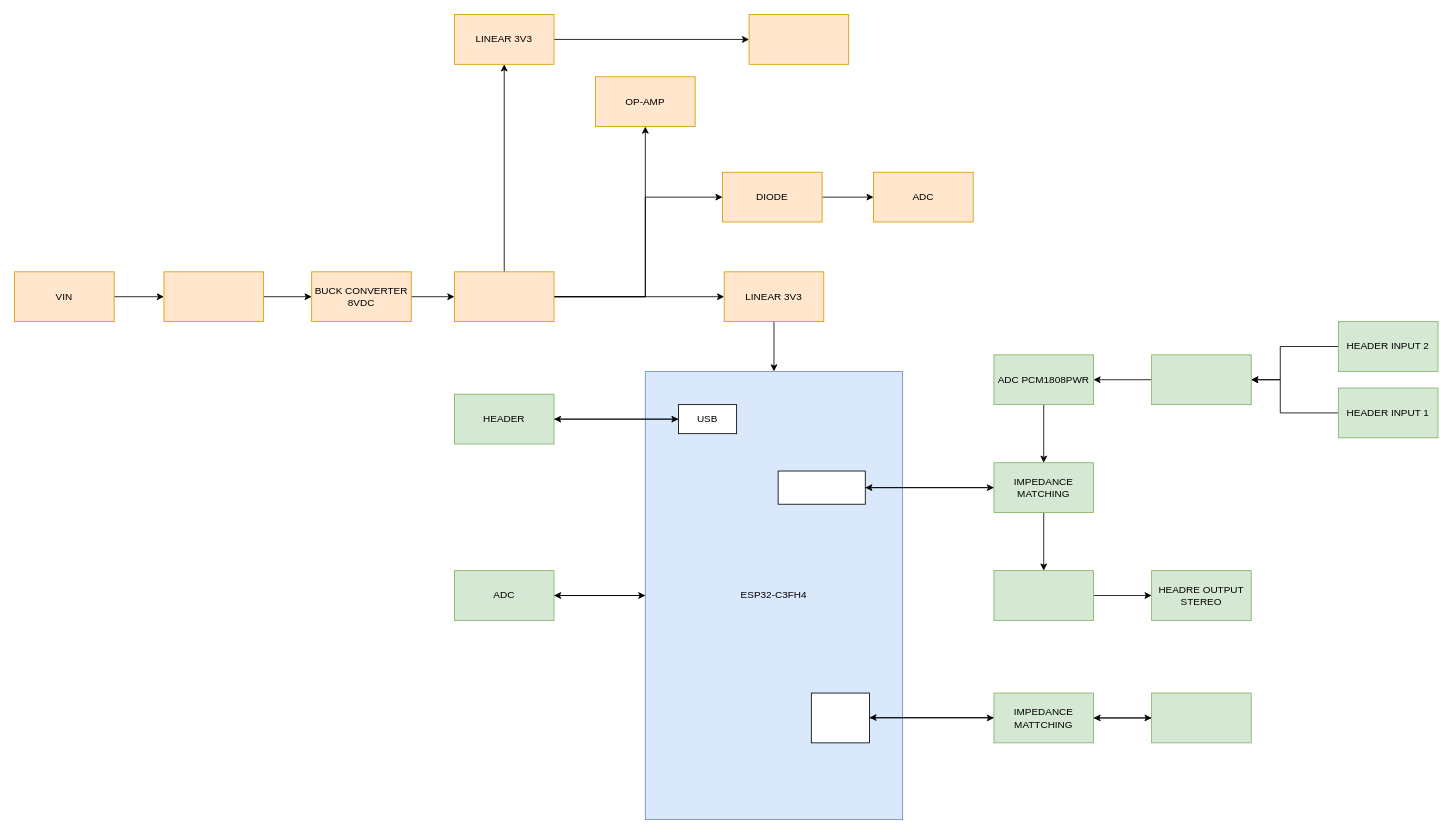
Image size: 1453x834. Some labels were removed from this diagram. The centre of each missing label's shape, as x and y in pixels:
ANTENNA: the point at 1201,717
BRIDGE DIODE: the point at 213,296
DAC: the point at 798,39
DAC CS4344CZZ: the point at 1043,595
DUAL-OPAMP: the point at 1201,379
I2S INTERFACE: the point at 821,487
LINER 5V: the point at 504,296
RF: the point at 839,717
